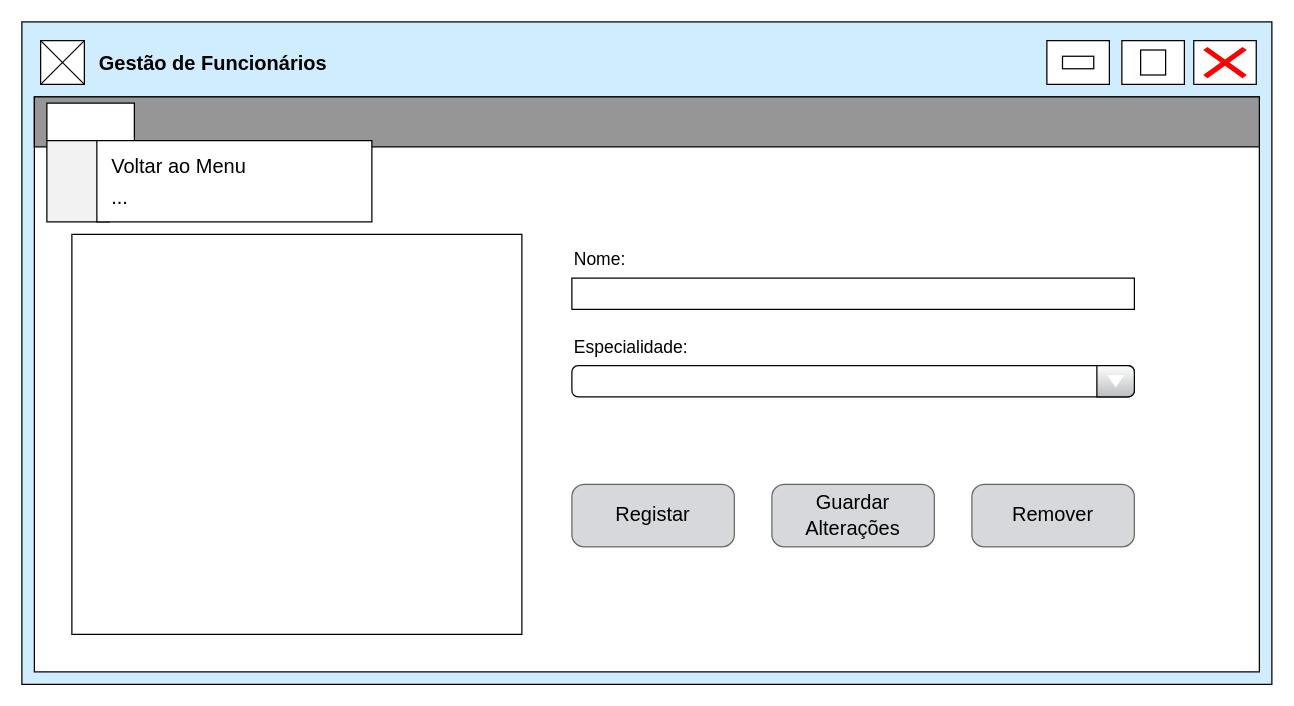
Some shapes in this 1294 by 706 pixel diagram are drawn without their labels. The centre of each missing label's shape, as x and y in pixels:
"ListBox Funcionários" goes at [296,433].
"Menu" goes at [90,121].
